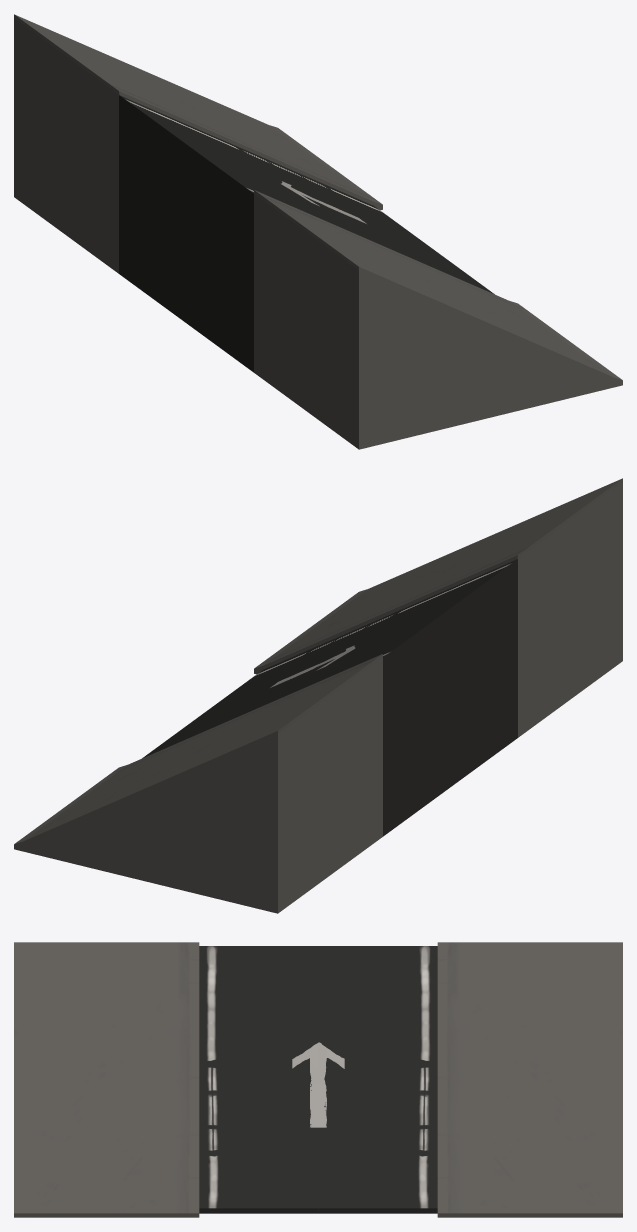
The model's file is SlopeUP.fbx.
The picture shows the model from 3 angles, top to bottom: view 1: azimuth 30°, elevation 25°; view 2: azimuth 150°, elevation 25°; view 3: azimuth 270°, elevation 25°; orthographic projection. The views are drawn at different scales.
Visible parts, largest first — view 1: SlopeUp; view 2: SlopeUp; view 3: SlopeUp.
Part boxes in pixels (<box>): SlopeUp: <box>14,14,622,449</box>; SlopeUp: <box>14,478,622,913</box>; SlopeUp: <box>14,942,622,1217</box>.
Bounding box in the file's own units: 3140 × 7104 × 2079.
Materials: 3 (3 with a texture image).
